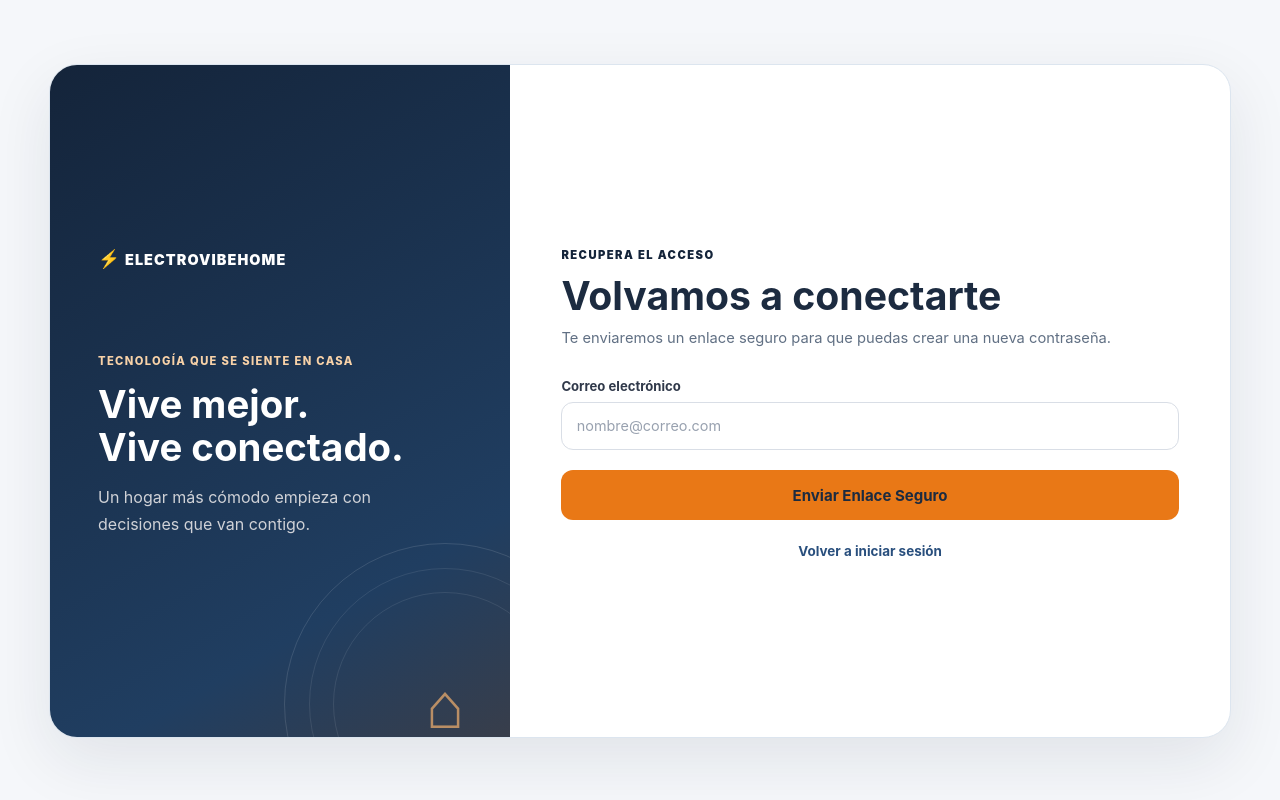
RecoverPassword › sends the requested email and displays the generic backend response
This screenshot has width=1280, height=800.
Type "cliente@example.com" into the field labelled "Correo electrónico" at (870, 426), box x1=561 y1=402 x2=1179 y2=450
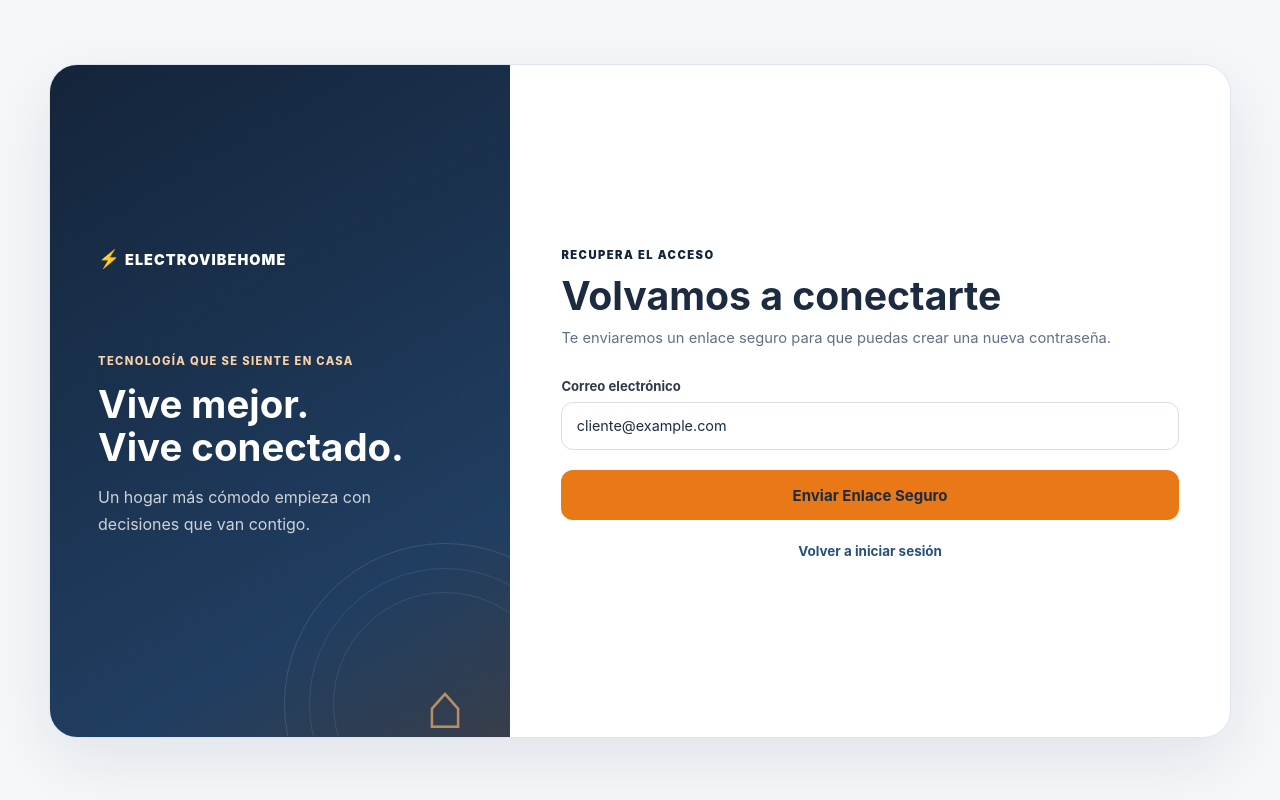
Submit the form labelled "Correo electrónico Enviar Enlace Seguro", box x1=561 y1=378 x2=1179 y2=520
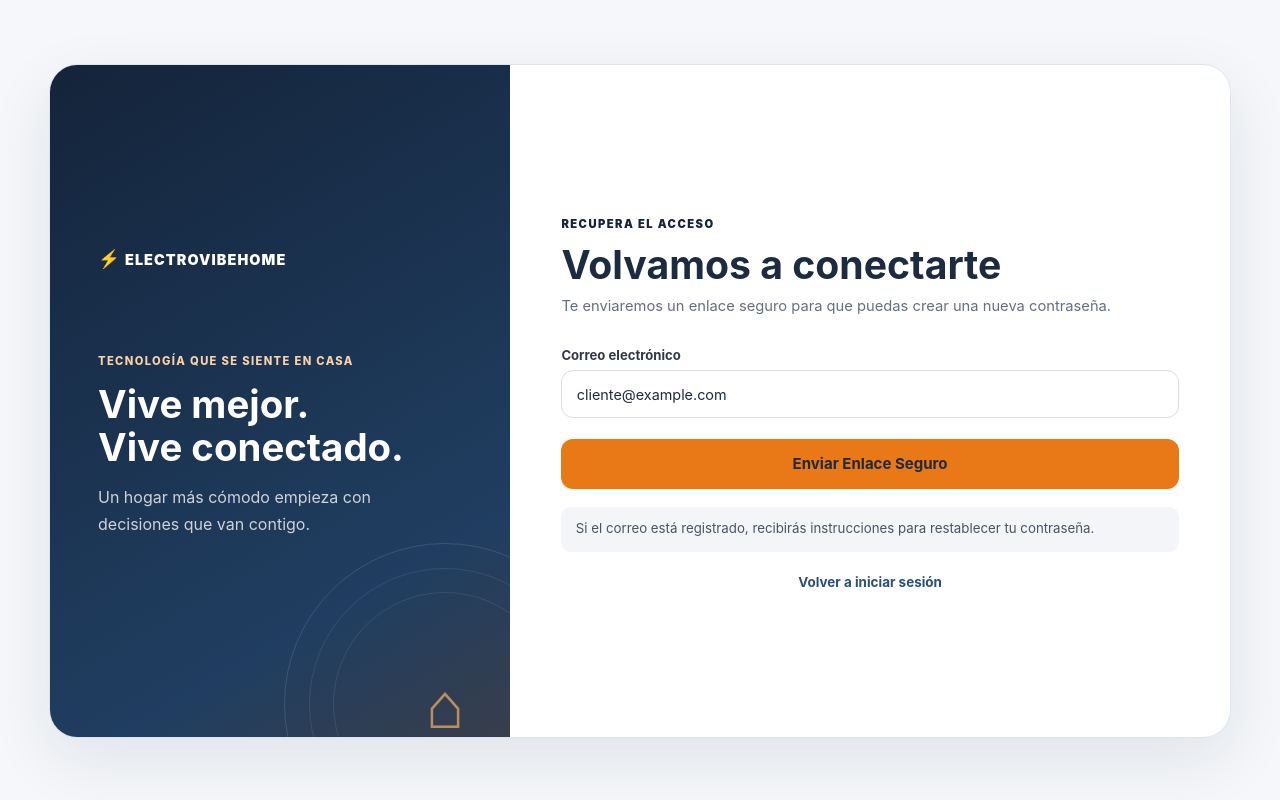
Expected: the text "Si el correo está registrado" is shown, x1=576 y1=520 x2=1094 y2=536
